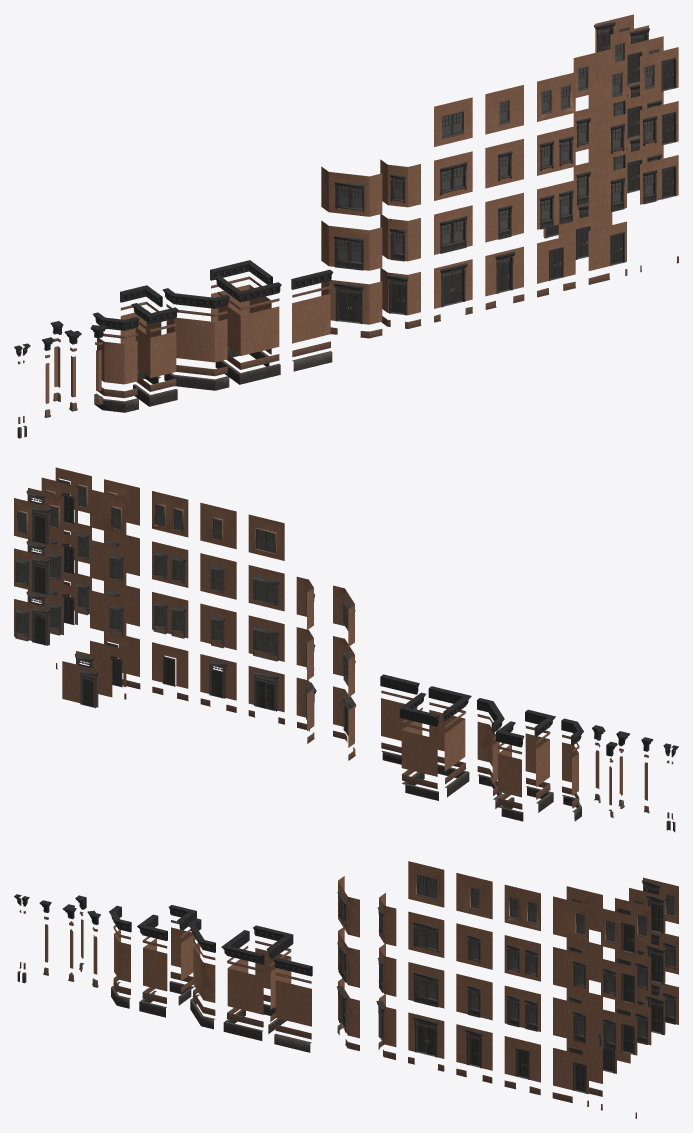
File: apartments.glb
3 views of the same model, one above another, from view 1: azimuth 30°, elevation 25°; view 2: azimuth 150°, elevation 25°; view 3: azimuth 330°, elevation 25° (orthographic). The views are drawn at different scales.
Visible parts, largest first — view 1: wall_standard_corner_large_01, wall_standard_angled_large_01, wall_window_angled_large_02, wall_window_angled_large_01, wall_standard_corner_small_01, wall_standard_standard_01, wall_standard_angled_small_01, wall_window_offset_small_05, wall_window_centered_small_03, wall_window_centered_small_02, wall_door_angled_large_01, wall_window_angled_small_02 (+38 smaller); view 2: wall_standard_corner_large_02, wall_standard_corner_large_01, wall_window_centered_small_03, wall_window_offset_small_06, wall_window_centered_small_02, wall_window_offset_small_04, wall_window_centered_small_01, wall_window_offset_small_02, wall_window_centered_double_03, wall_door_centered_small_02, door_window_small_04, wall_window_centered_large_03 (+39 smaller); view 3: wall_standard_corner_large_01, wall_standard_standard_01, wall_window_centered_small_03, wall_window_offset_small_05, wall_window_centered_small_02, wall_window_offset_small_03, wall_window_centered_small_01, wall_window_centered_double_03, wall_door_centered_small_02, wall_standard_corner_small_01, wall_window_offset_small_01, wall_window_centered_large_03 (+58 smaller).
Part boxes in pixels (box(x1,y1,x2,y2)): wall_standard_corner_large_01: box(218, 306, 279, 355); wall_standard_angled_large_01: box(166, 317, 227, 362); wall_window_angled_large_02: box(321, 166, 382, 216); wall_window_angled_large_01: box(321, 220, 382, 270); wall_standard_corner_small_01: box(135, 328, 176, 377); wall_standard_standard_01: box(292, 294, 330, 343); wall_standard_angled_small_01: box(97, 338, 137, 384); wall_window_offset_small_05: box(588, 59, 626, 109); wall_window_centered_small_03: box(485, 85, 523, 134); wall_window_centered_small_02: box(485, 139, 523, 188); wall_door_angled_large_01: box(321, 280, 382, 324); wall_window_angled_small_02: box(380, 159, 420, 207); wall_standard_corner_large_02: box(401, 721, 437, 776); wall_standard_corner_large_01: box(429, 710, 465, 771); wall_window_centered_small_03: box(200, 502, 236, 549); wall_window_offset_small_06: box(90, 489, 126, 535); wall_window_centered_small_02: box(200, 553, 236, 599); wall_window_offset_small_04: box(90, 540, 126, 586); wall_window_centered_small_01: box(200, 603, 236, 649); wall_window_offset_small_02: box(90, 590, 126, 636); wall_window_centered_double_03: box(152, 491, 188, 537); wall_door_centered_small_02: box(152, 642, 188, 688); door_window_small_04: box(14, 605, 51, 645); wall_window_centered_large_03: box(248, 514, 284, 560); wall_standard_corner_large_01: box(227, 959, 263, 1014); wall_standard_standard_01: box(275, 980, 311, 1026); wall_window_centered_small_03: box(456, 873, 492, 919); wall_window_offset_small_05: box(553, 896, 588, 942); wall_window_centered_small_02: box(456, 923, 492, 969); wall_window_offset_small_03: box(553, 947, 588, 993); wall_window_centered_small_01: box(456, 973, 492, 1020); wall_window_centered_double_03: box(504, 884, 540, 930); wall_door_centered_small_02: box(504, 1036, 540, 1082); wall_standard_corner_small_01: box(143, 938, 167, 991); wall_window_offset_small_01: box(553, 997, 588, 1043); wall_window_centered_large_03: box(408, 861, 444, 907).
Size of the model in its own units: 51.53 by 17 by 6.67.
5 materials, 5 textured.
